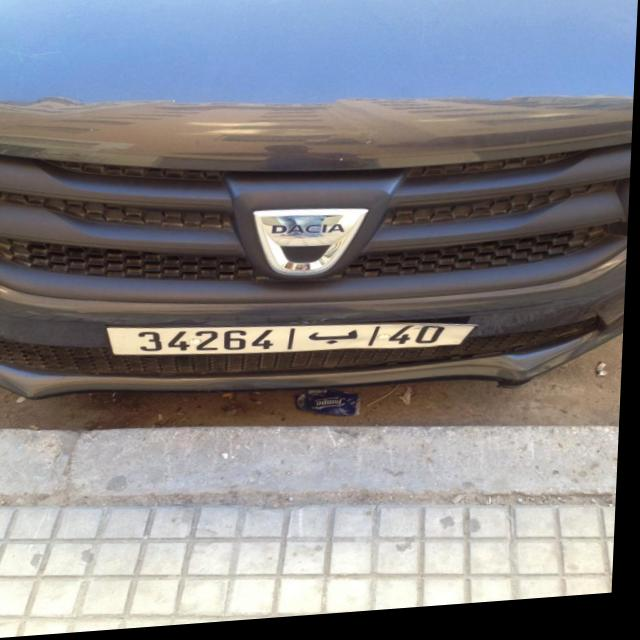License-Plate: (110, 329, 479, 358)
